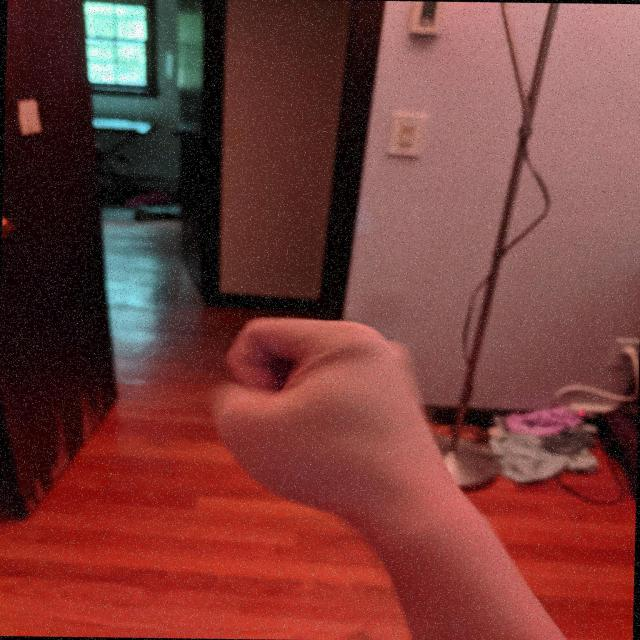J: (196, 309, 461, 527)
